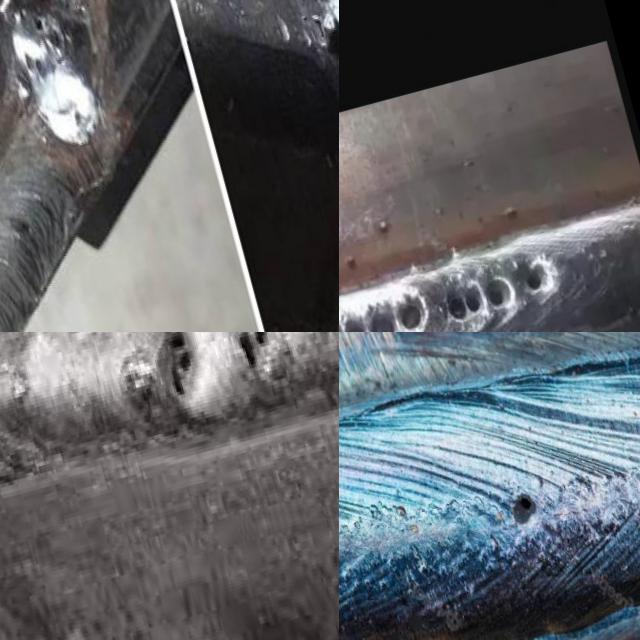defect: (442, 272, 518, 326), (339, 299, 426, 332), (161, 332, 197, 408), (30, 8, 71, 60), (505, 488, 541, 531), (234, 332, 266, 378), (19, 48, 48, 81), (523, 262, 546, 289)
